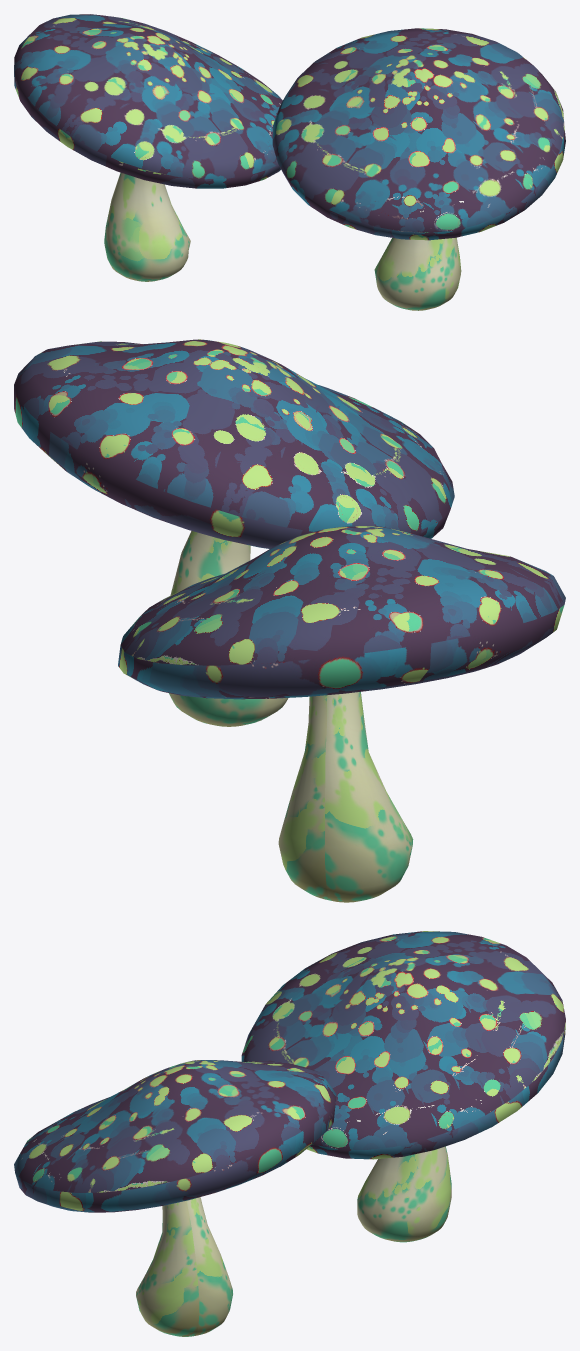
Rendered from FBX_MushroomsJump.fbx.
3 views of the same model, one above another, from view 1: azimuth 30°, elevation 25°; view 2: azimuth 150°, elevation 25°; view 3: azimuth 270°, elevation 25° (orthographic). The views are drawn at different scales.
Visible parts, largest first — view 1: MushroomsJump; view 2: MushroomsJump; view 3: MushroomsJump.
Boxes of the visible parts, x1=… form: MushroomsJump: x1=14, y1=14, x2=565, y2=310; MushroomsJump: x1=14, y1=339, x2=565, y2=902; MushroomsJump: x1=14, y1=931, x2=565, y2=1336.
Size of the model in its own units: 489 by 268 by 501.
